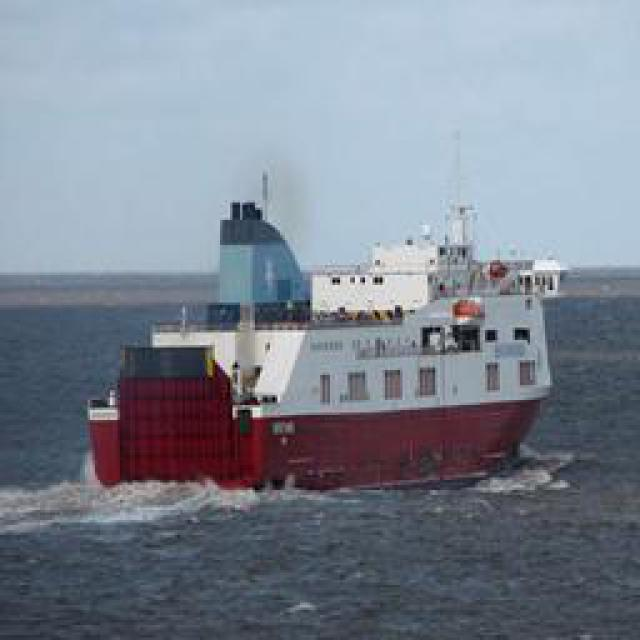Ship: (99, 117, 559, 497)
